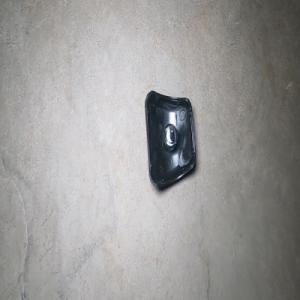LuggagePart: (144, 89, 196, 191)
